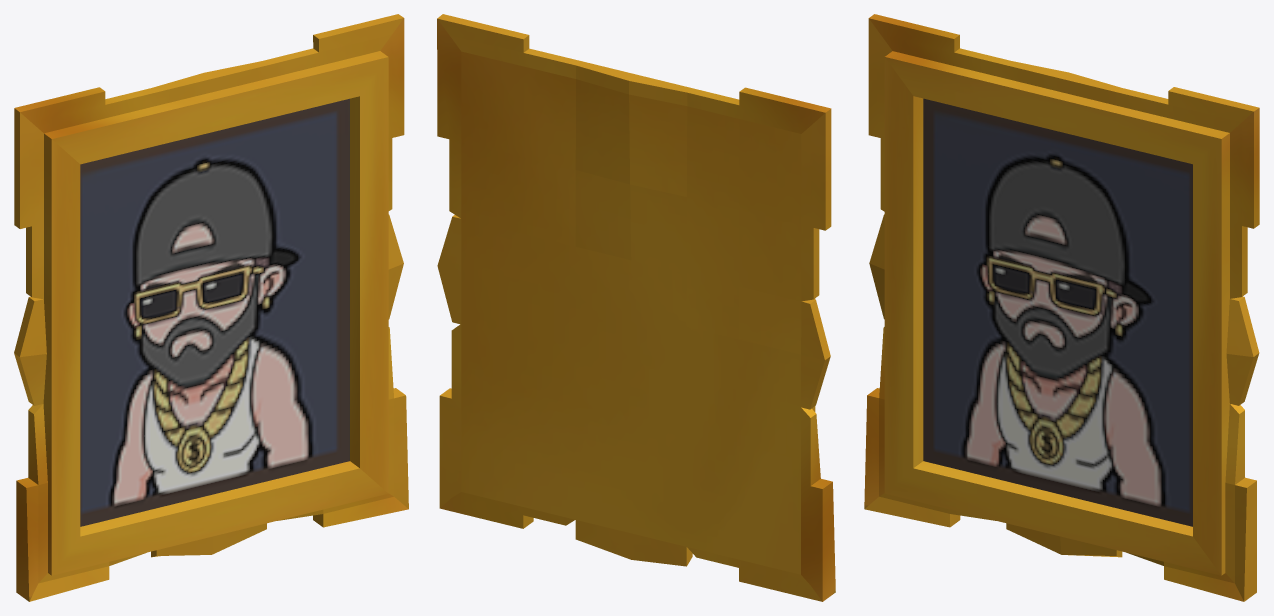
File: frame.fbx
3 renders of one model, left to right at view 1: azimuth 30°, elevation 25°; view 2: azimuth 150°, elevation 25°; view 3: azimuth 330°, elevation 25°, orthographic.
Visible parts, largest first — view 1: frame; view 2: frame; view 3: frame.
Boxes of the visible parts, bbox=[...] form: frame: bbox=[14, 14, 408, 601]; frame: bbox=[437, 14, 835, 601]; frame: bbox=[864, 14, 1259, 601].
Bounding box in the file's own units: 0.7151 × 0.8704 × 0.0521.
1 material, 1 textured.
